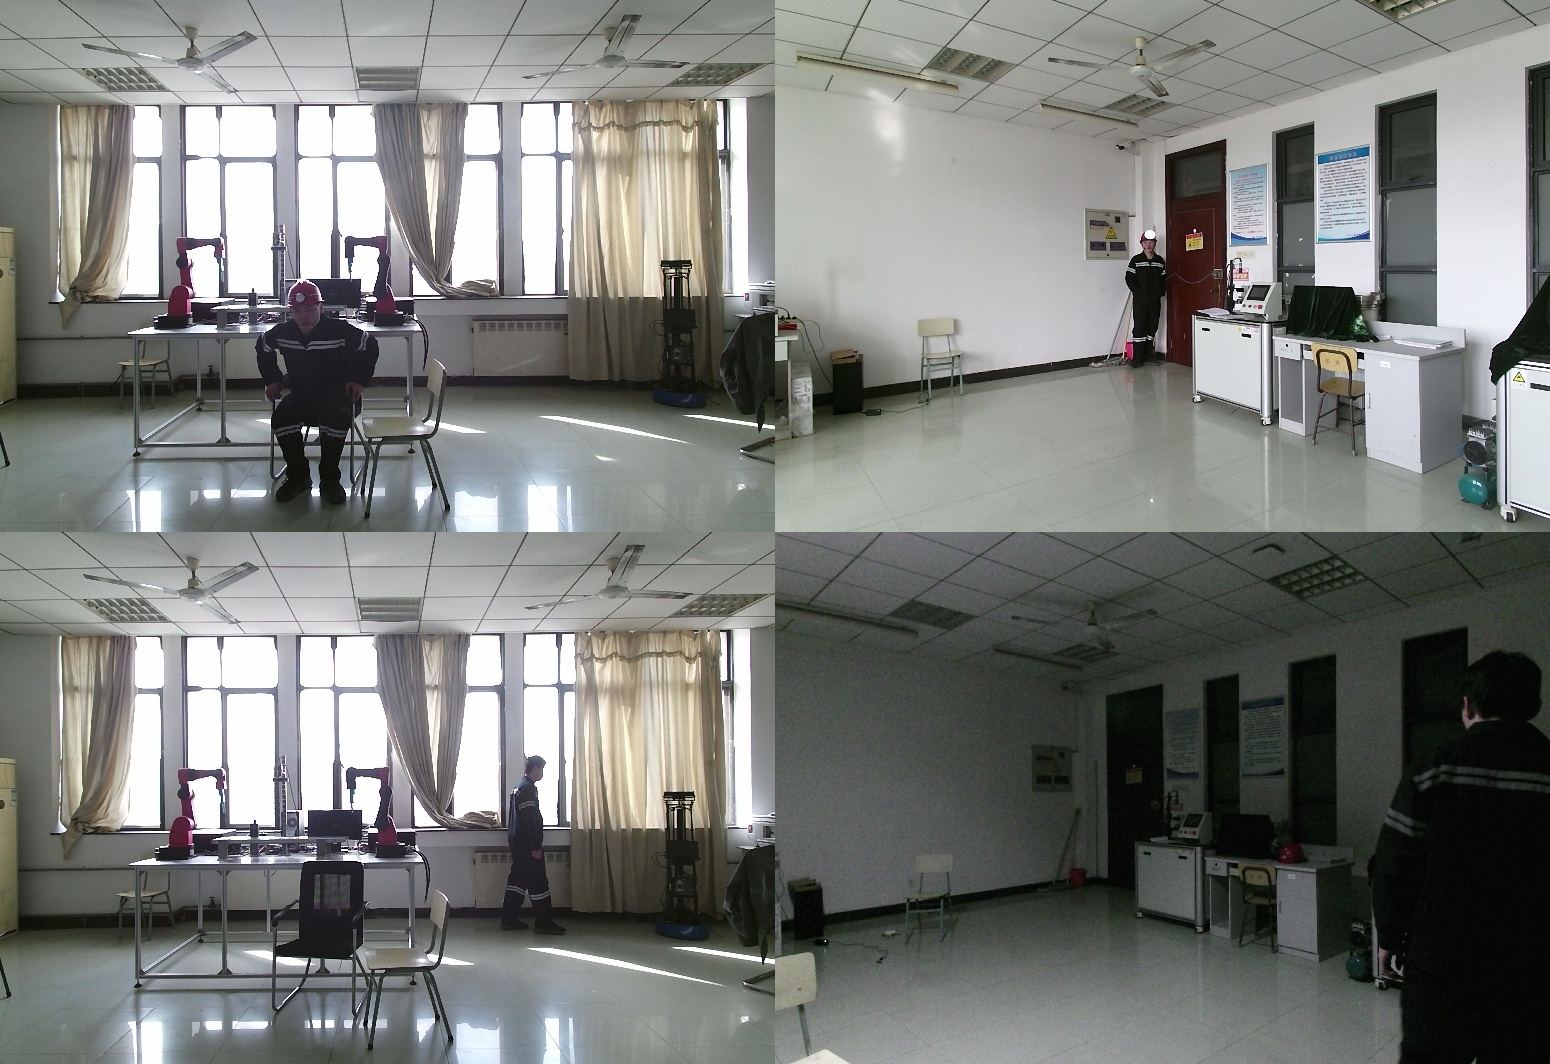person: (1384, 645, 1550, 1064), (256, 281, 386, 503), (503, 757, 570, 943), (1124, 234, 1168, 367)
